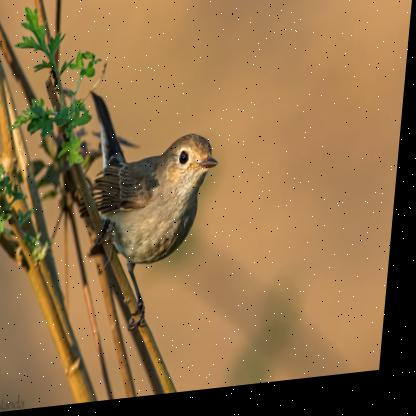Burung: (75, 84, 226, 335)
